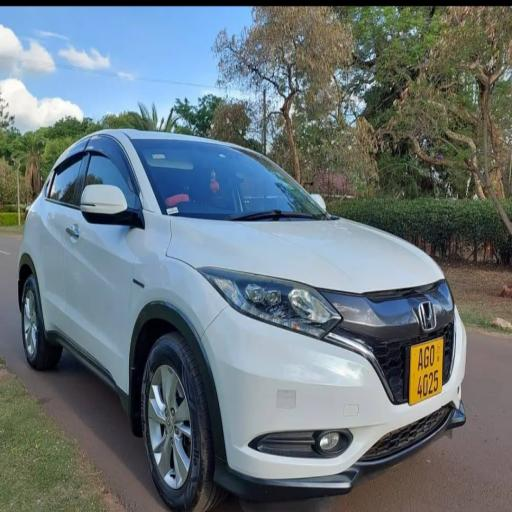number-plates: (410, 343, 444, 398)
